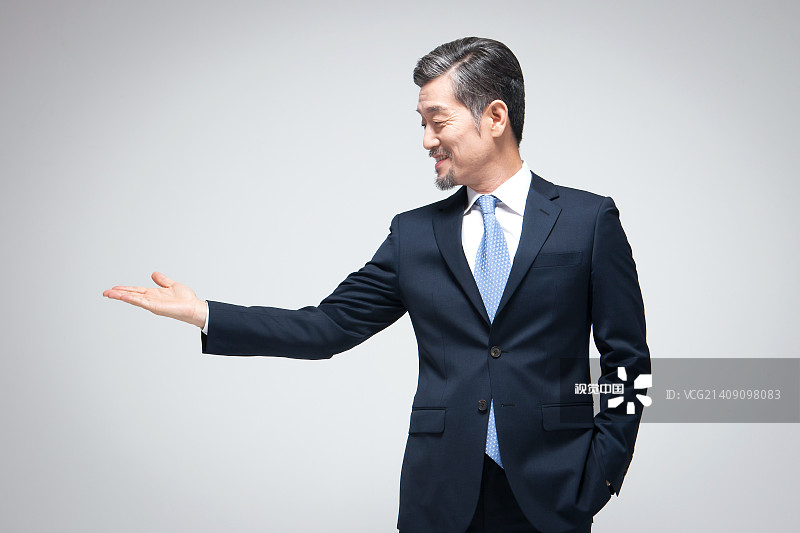no-phone: (88, 254, 218, 335)
